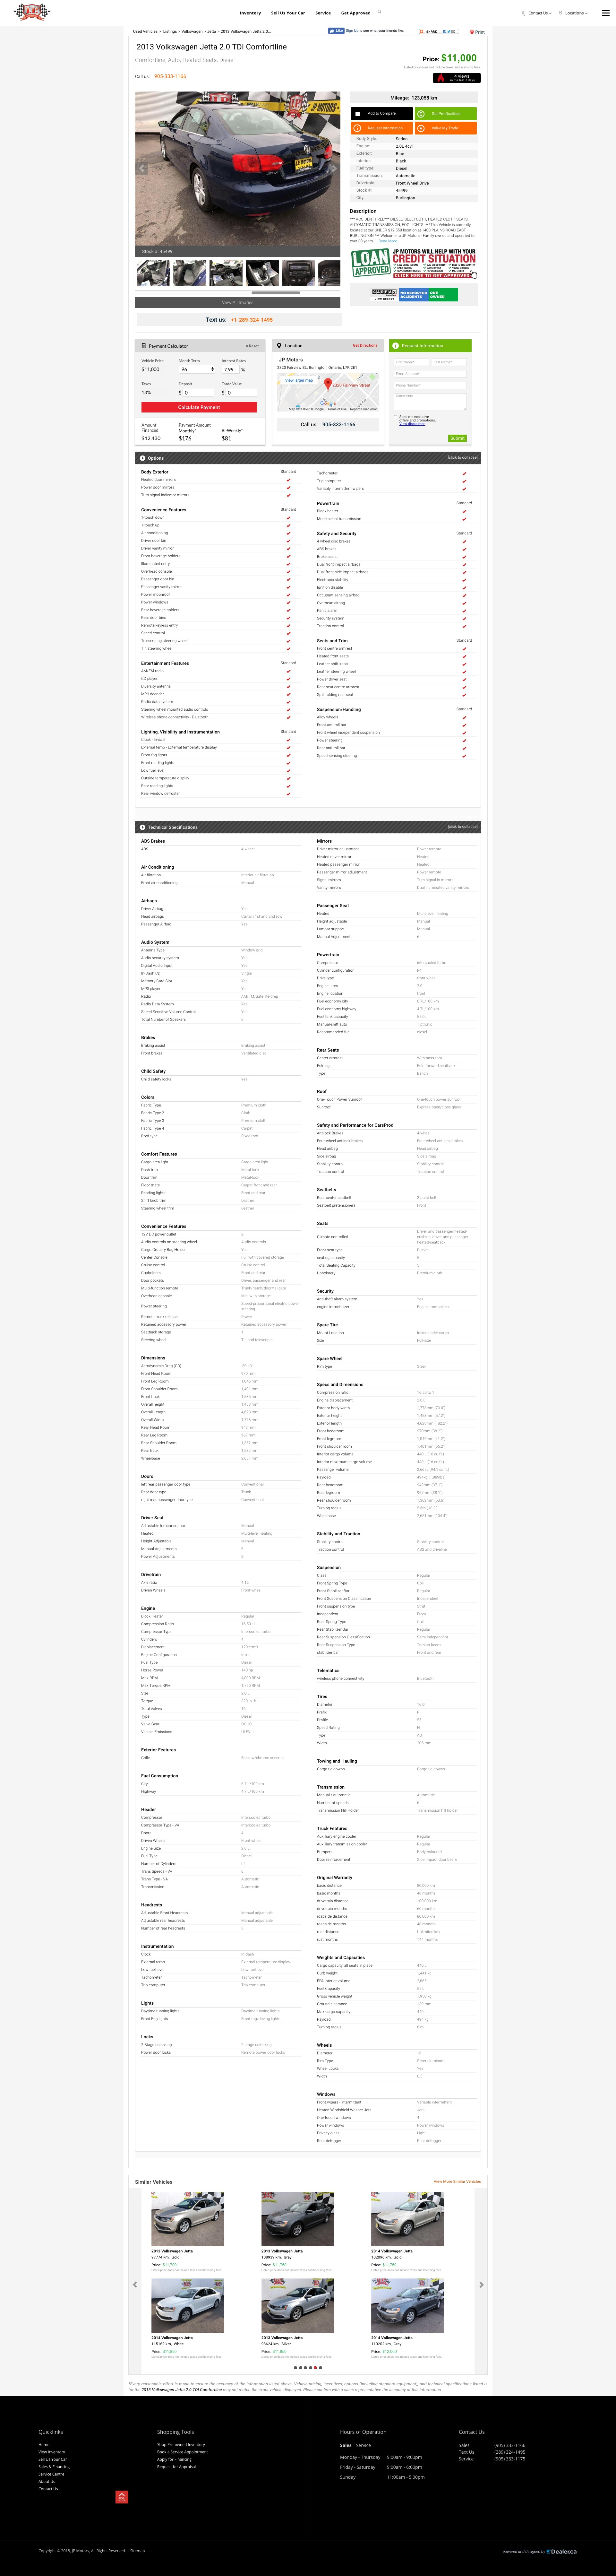car: (327, 163, 342, 176)
